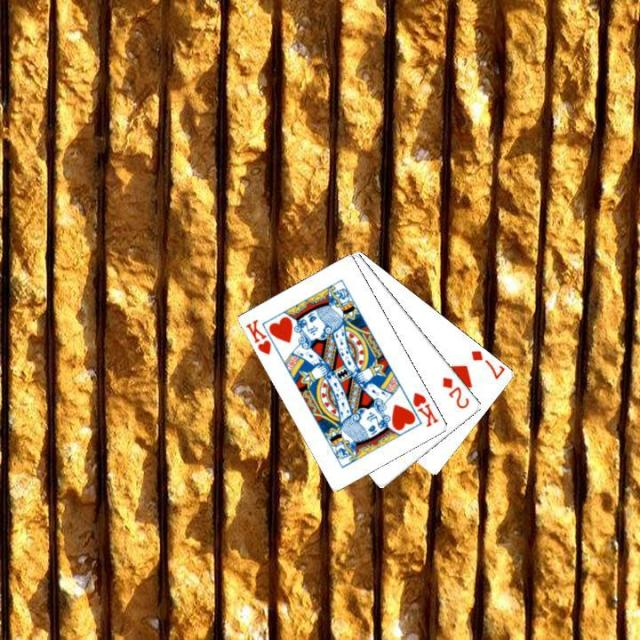2D: (438, 372, 471, 410)
7D: (468, 346, 506, 381)
KH: (242, 316, 274, 358), (409, 388, 441, 429)
